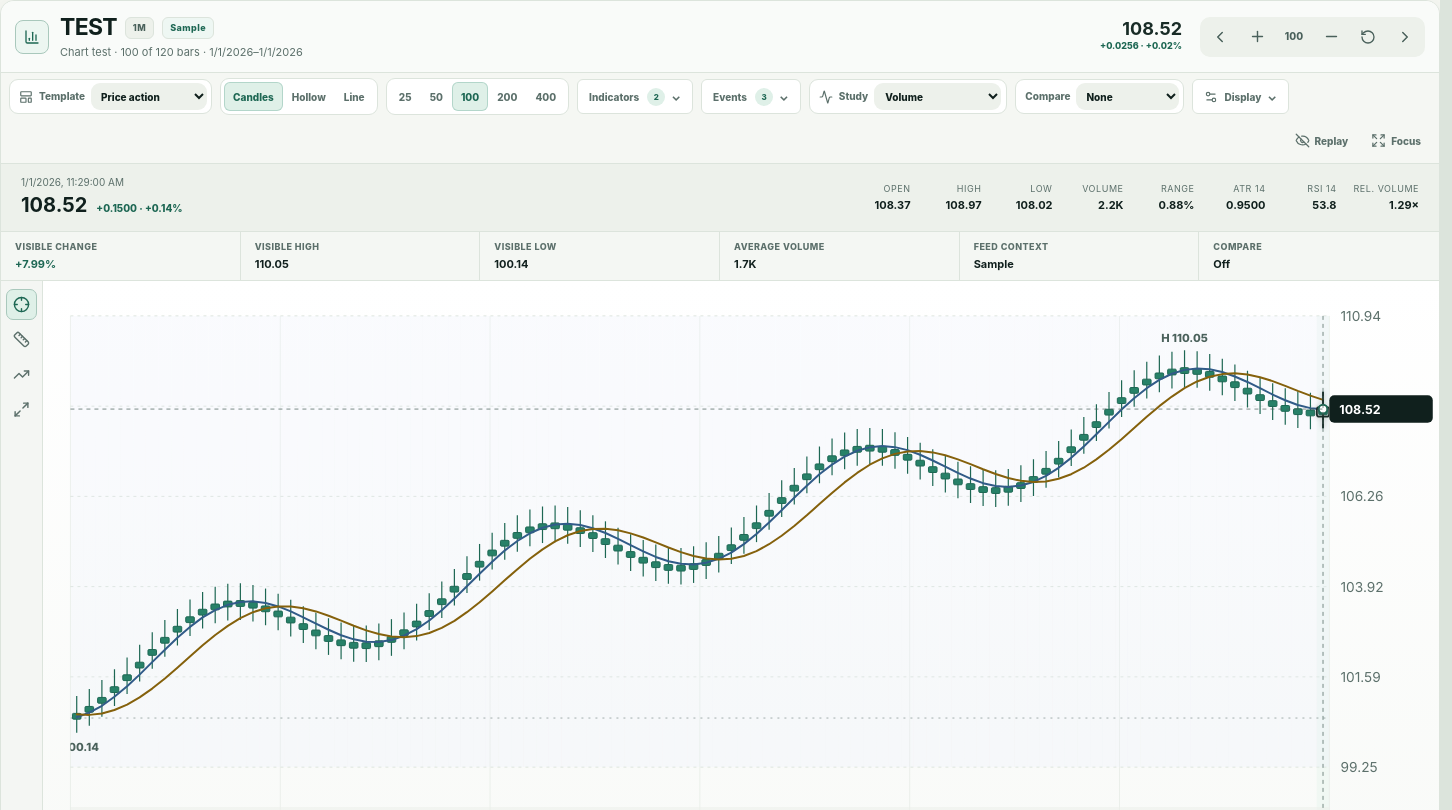
Test: MarketChart › compares shared timestamps with normalized performance
The width and height of the screenshot is (1452, 810).
Step 1. Select "COMP · 1m" in the dropdown named "Compare symbol" → (1128, 97), box [1076,83,1180,110]
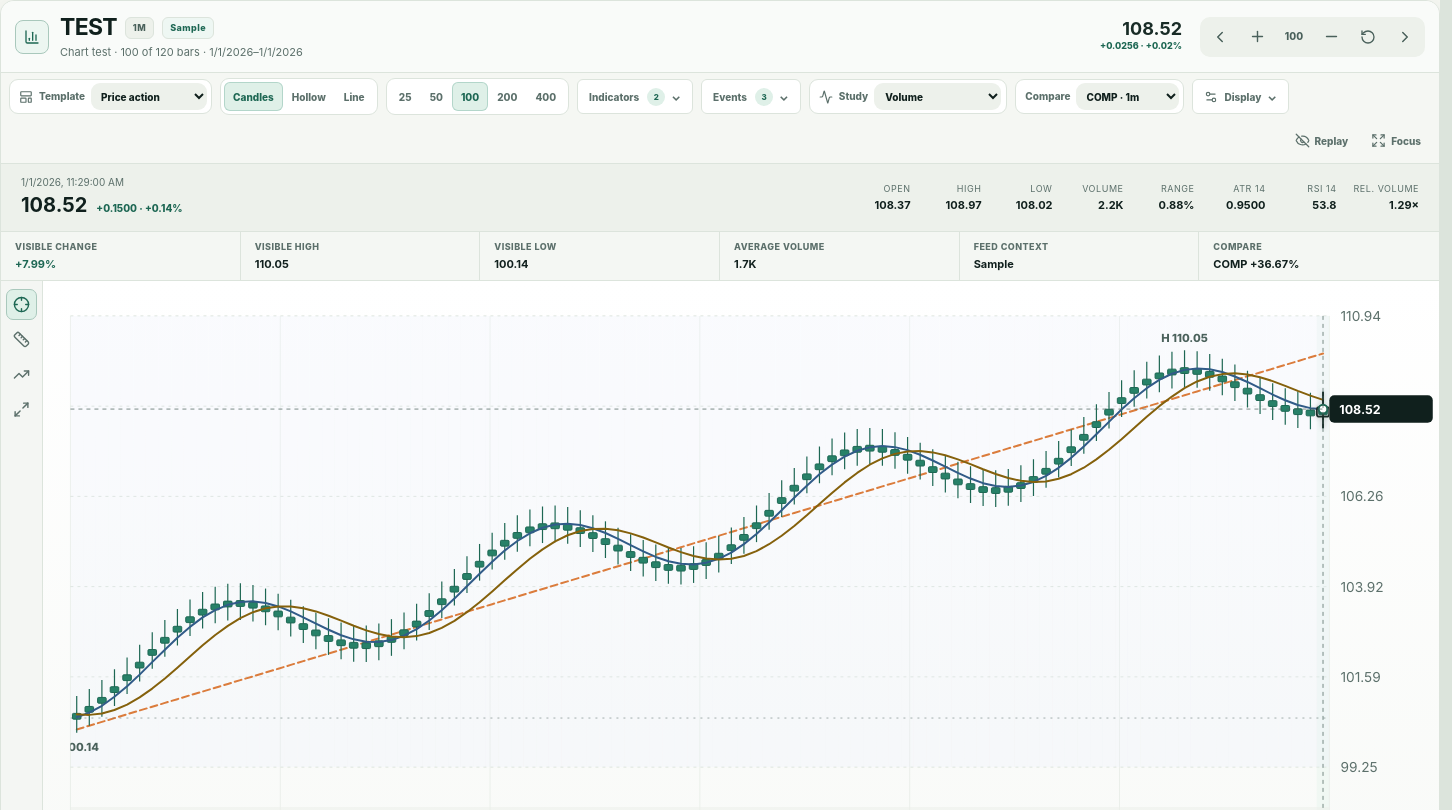
expect the text "COMP +36.67%" is shown: met, box [1213,257,1299,271]
